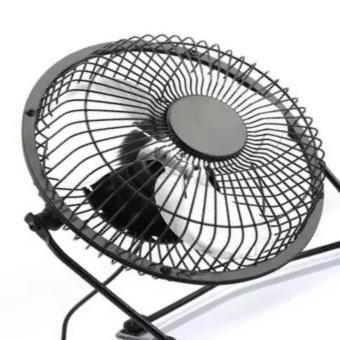chair: (0, 23, 333, 339)
